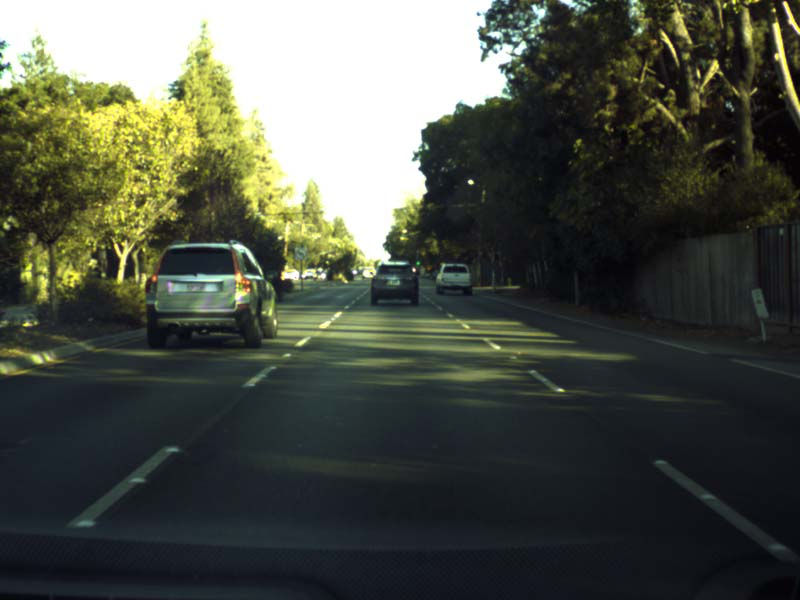Green: (415, 254, 420, 267)
